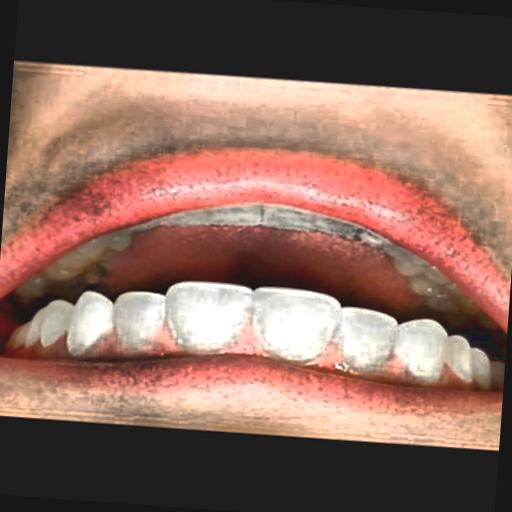Healthy: (2, 132, 512, 455)
